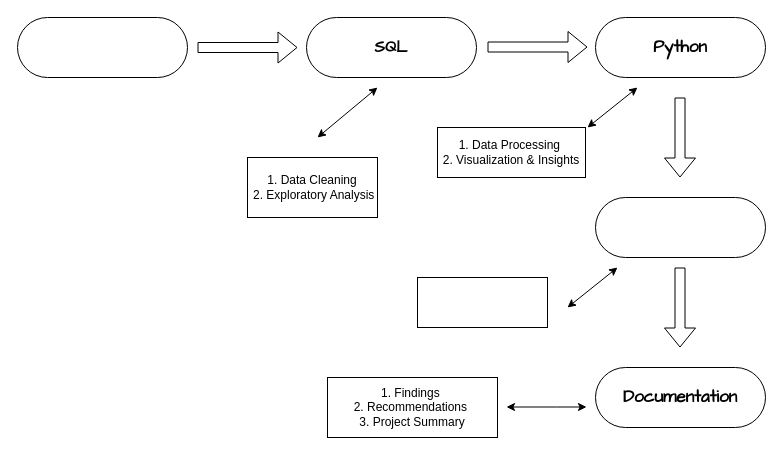
Image size: 783x455. Some labels were removed from this diagram. The centre of each missing label's shape, as x and y in pixels:
"1. KPI Creation 2. Interactive Reports" goes at point 482,302.
"Dashboard" goes at point 680,227.
"Dataset" goes at point 102,47.
